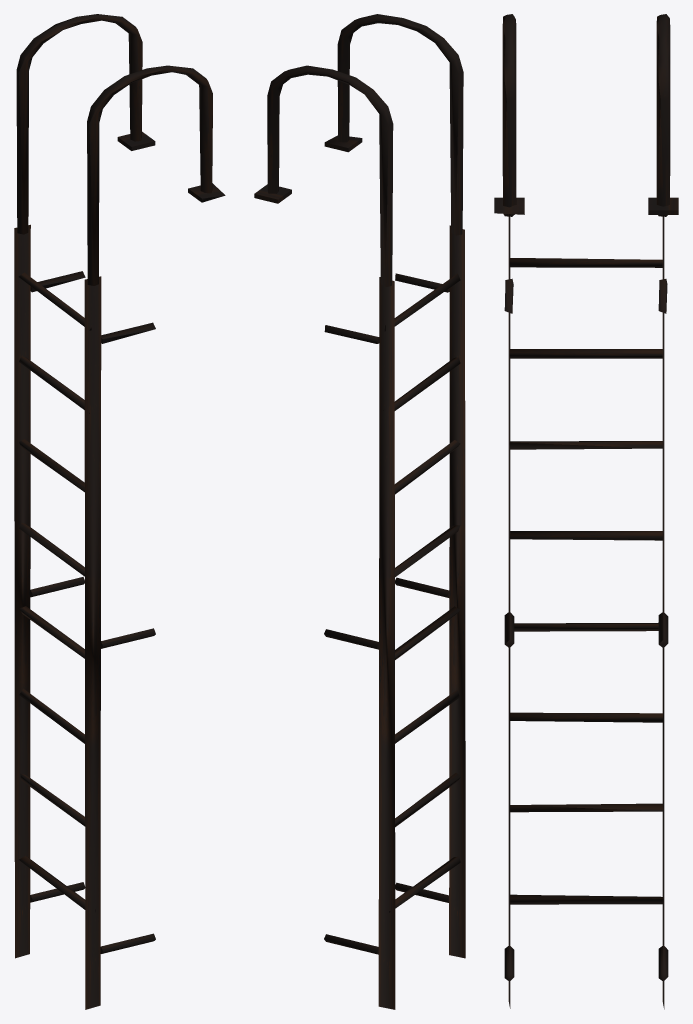
Rendered from SM_Banchina_Scaletta_LOD1.fbx.
The picture shows the model from 3 angles, left to right: view 1: azimuth 30°, elevation 25°; view 2: azimuth 150°, elevation 25°; view 3: azimuth 270°, elevation 25°; orthographic projection. The views are drawn at different scales.
Parts seen in each view (by area): view 1: SM_Banchina_Scaletta_LOD1; view 2: SM_Banchina_Scaletta_LOD1; view 3: SM_Banchina_Scaletta_LOD1.
Boxes of the visible parts, x1,y1,x2,y2 form: SM_Banchina_Scaletta_LOD1: [14, 14, 225, 1009]; SM_Banchina_Scaletta_LOD1: [254, 14, 465, 1009]; SM_Banchina_Scaletta_LOD1: [494, 14, 678, 1009].
Size of the model in its own units: 50.5 by 55 by 334.
1 material, 1 textured.
